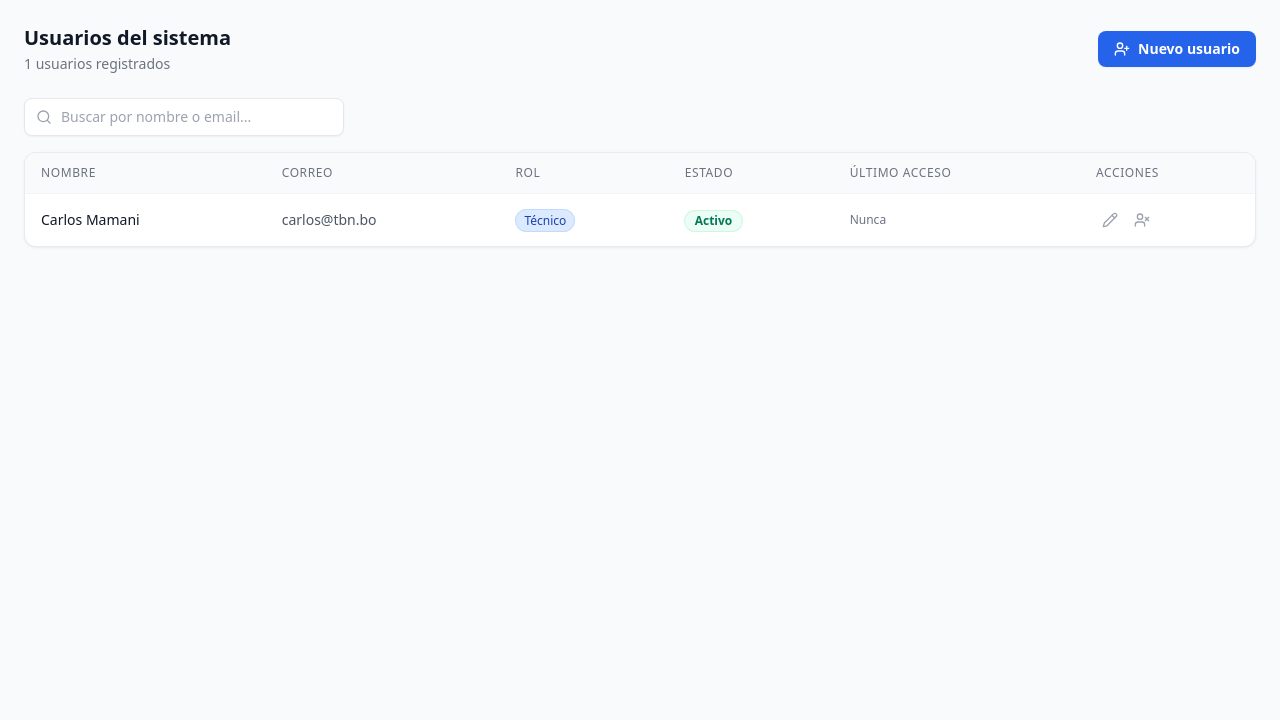
Test case: UsersPage — TC-FE-USR-01 a TC-FE-USR-07 (red de seguridad refactor C4) › TC-FE-USR-06 — editar abre el modal con los datos precargados
Expected: the text "Carlos Mamani" is shown, [41,210,140,229]
Click the button titled "Editar" at (1110, 220), box [1096,206,1124,234]
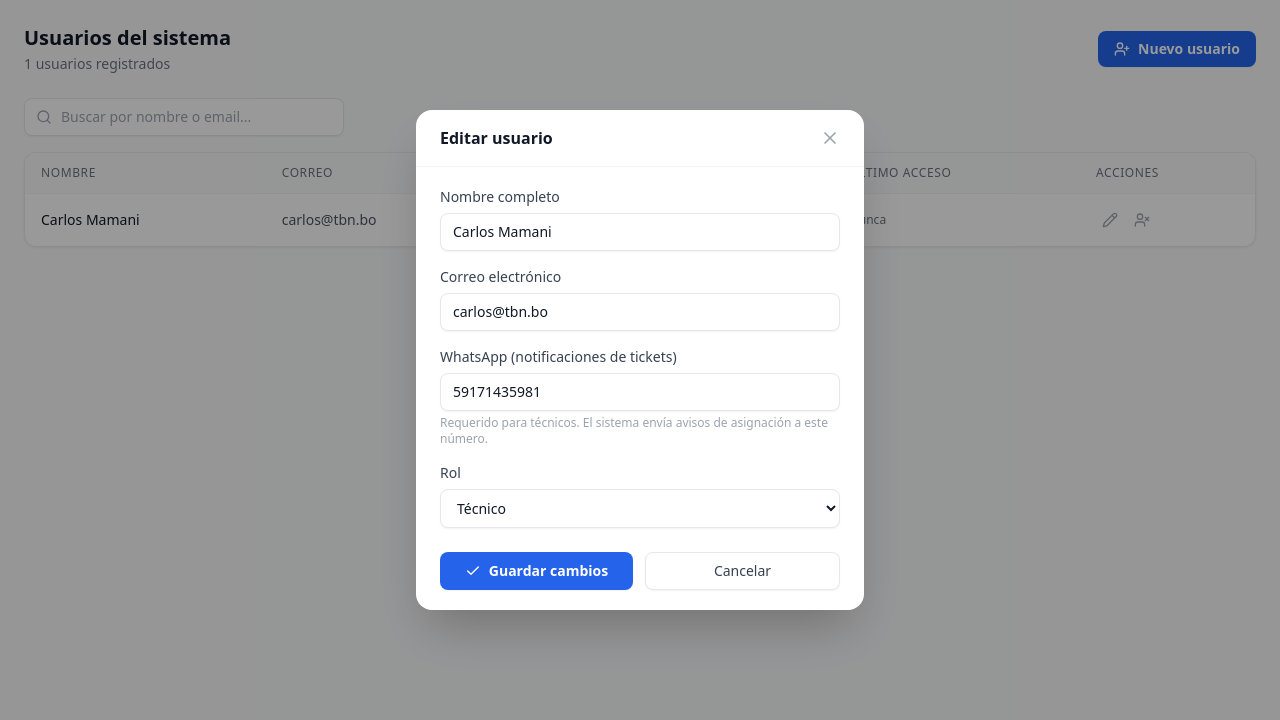
Now the heading "Editar usuario" is shown, box [440,126,553,150]
Now the field showing "Carlos Mamani" below "Nombre completo" is shown, box [440,213,840,251]
Now the field showing "carlos@tbn.bo" below "Correo electrónico" is shown, box [440,293,840,331]
